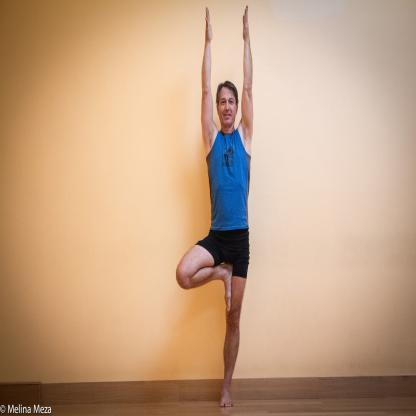tree: (169, 2, 275, 414)
